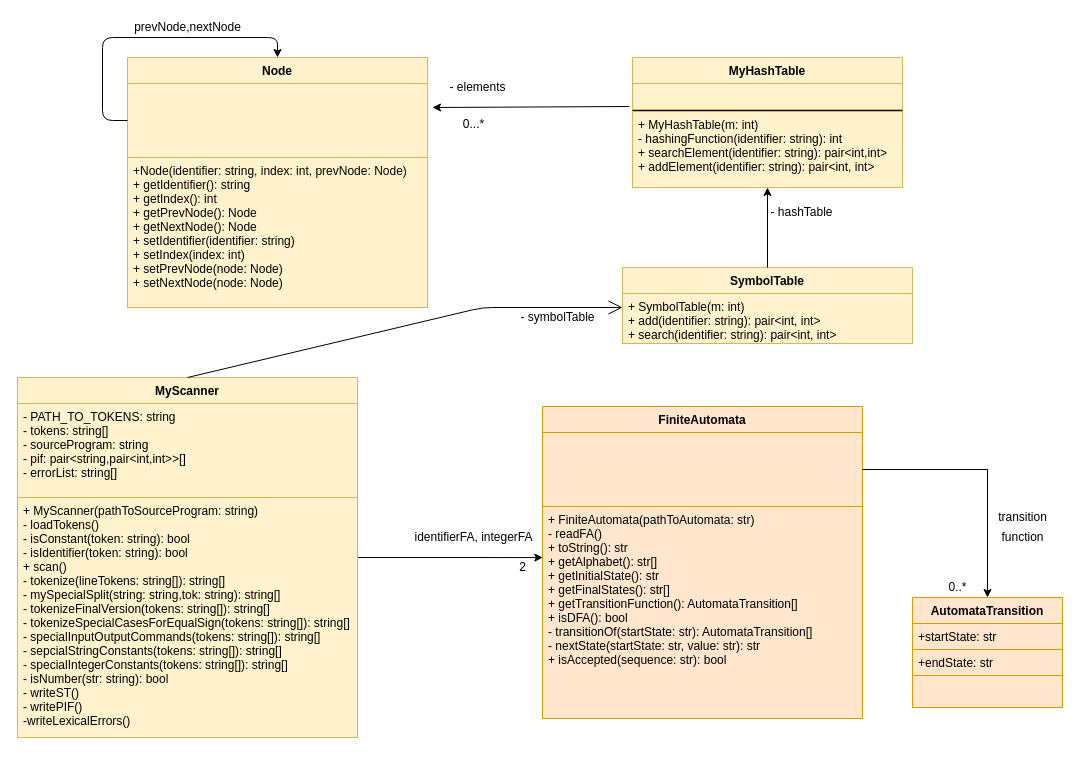
Image size: 1080x757. Some labels were removed from this diagram. The centre of each missing label's shape, as x and y in pixels:
"+ identifier: string +index: int + prevNode: Node + nextNode: Node" goes at (x=277, y=120).
"+transitionValue: str" goes at (x=987, y=691).
"- m: int" goes at (x=767, y=96).
"- states: str[] - alphabet: str[] - initialState: str - finalStates: str[]" goes at (x=702, y=469).
